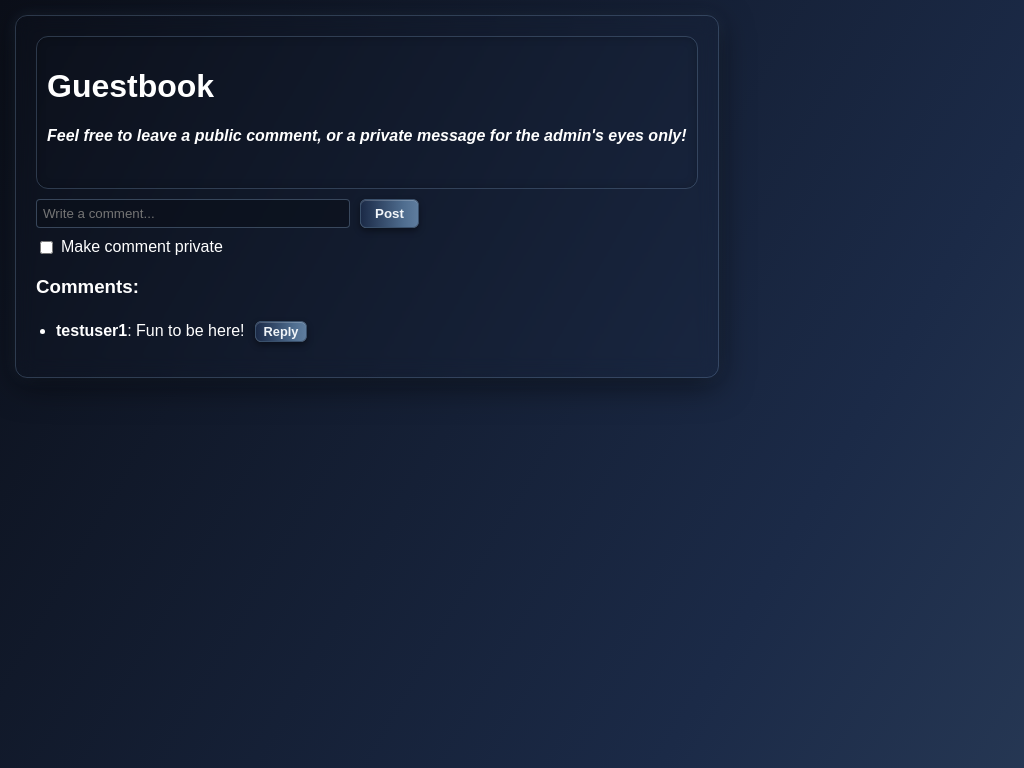
Test: GuestbookPage › submits a new comment successfully and updates layout feed
The image size is (1024, 768).
Type "Super to be here!" into the field with placeholder "Write a comment..." at (193, 213), box [36,199,350,228]
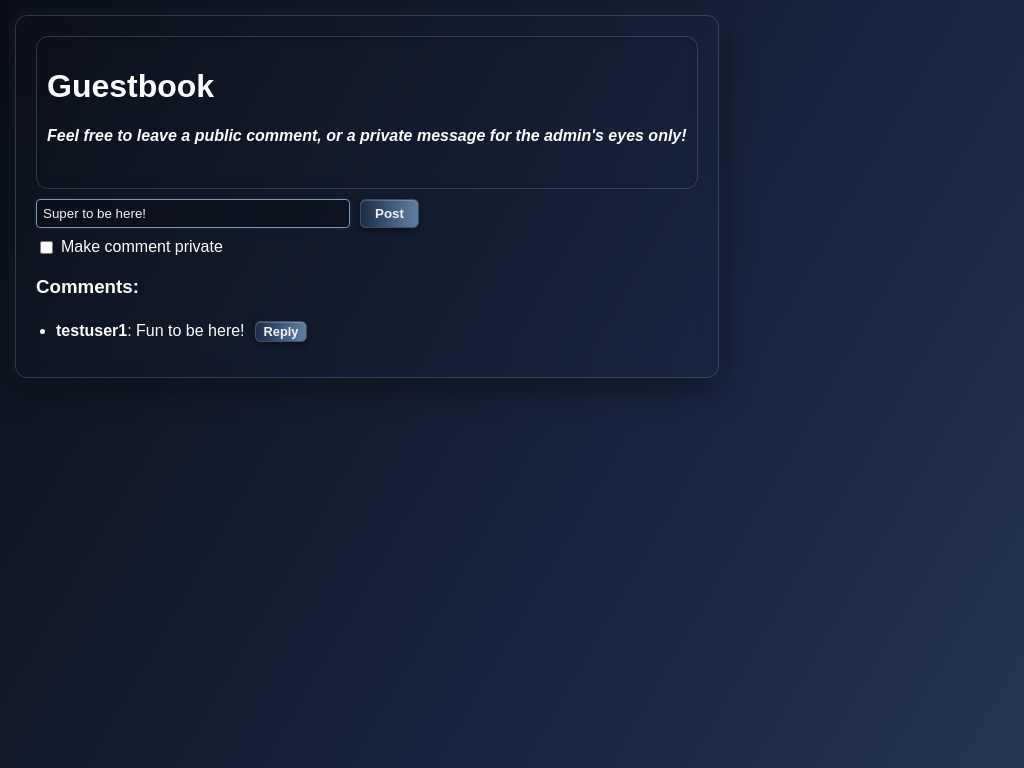
Click the button "Post" at (389, 213), box [360,199,419,228]
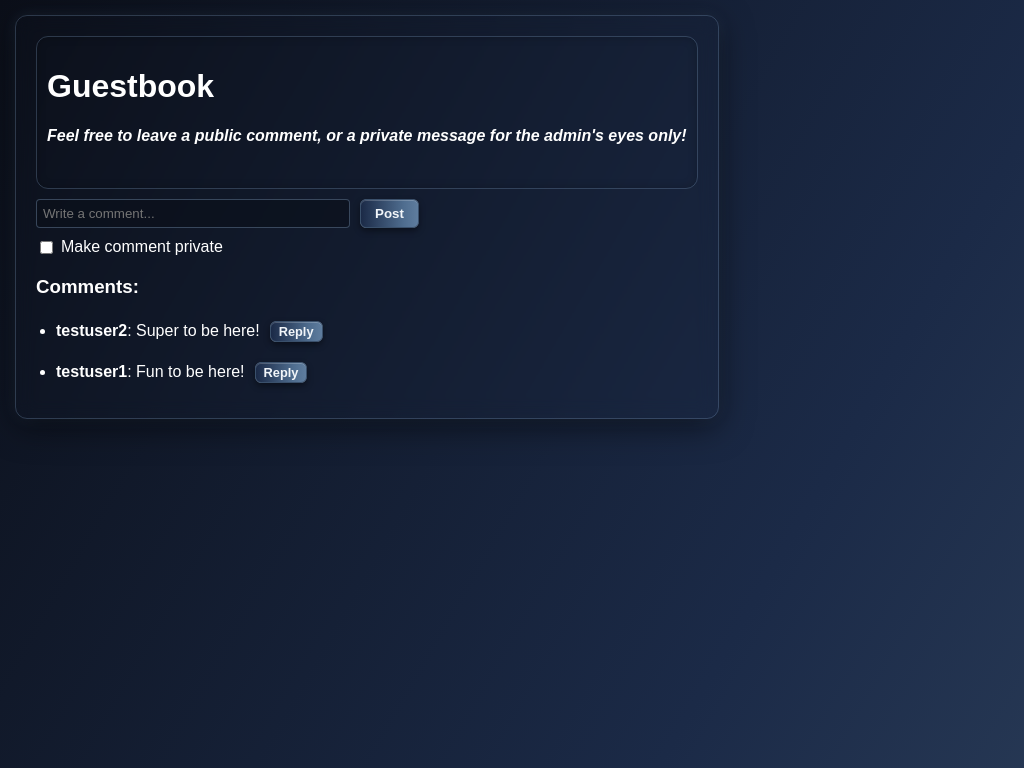
Now the list item "testuser2: Super to be here! Reply" is shown, box [56,321,322,342]
